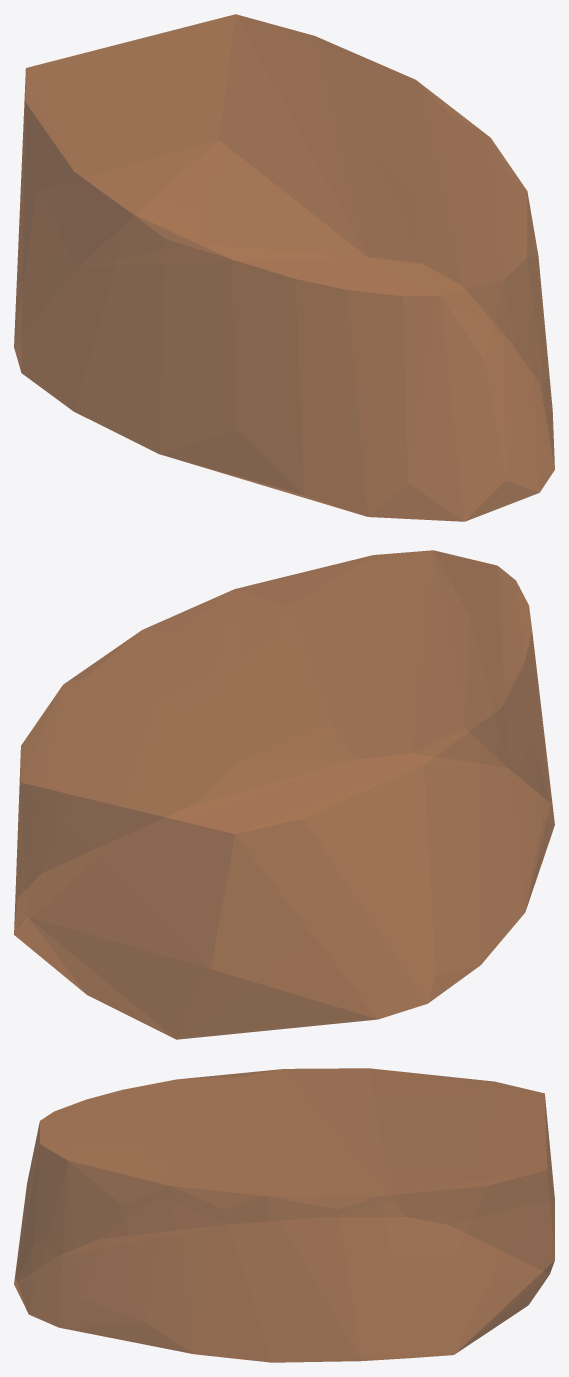
3 views of the same model, one above another, from view 1: azimuth 30°, elevation 25°; view 2: azimuth 150°, elevation 25°; view 3: azimuth 270°, elevation 25° (orthographic). The views are drawn at different scales.
Visible parts, largest first — view 1: Shape_IndexedFaceSet.005_Shape_IndexedFaceSet.16775; view 2: Shape_IndexedFaceSet.005_Shape_IndexedFaceSet.16775; view 3: Shape_IndexedFaceSet.005_Shape_IndexedFaceSet.16775.
Boxes of the visible parts, x1,y1,x2,y2 form: Shape_IndexedFaceSet.005_Shape_IndexedFaceSet.16775: [14, 14, 554, 521]; Shape_IndexedFaceSet.005_Shape_IndexedFaceSet.16775: [14, 550, 554, 1039]; Shape_IndexedFaceSet.005_Shape_IndexedFaceSet.16775: [14, 1068, 554, 1362].
Bounding box in the file's own units: 0.4239 × 0.2124 × 0.6445.
